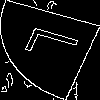L: (24, 24, 91, 68)
